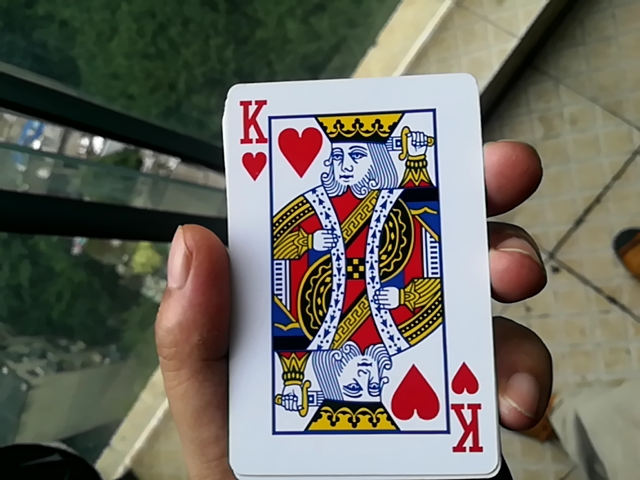hx k: (216, 65, 487, 480)
